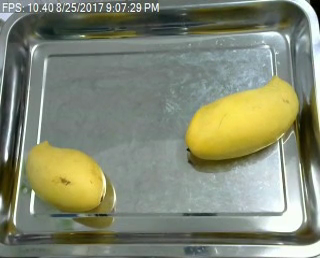Mango: (182, 73, 302, 162), (28, 139, 107, 214)
